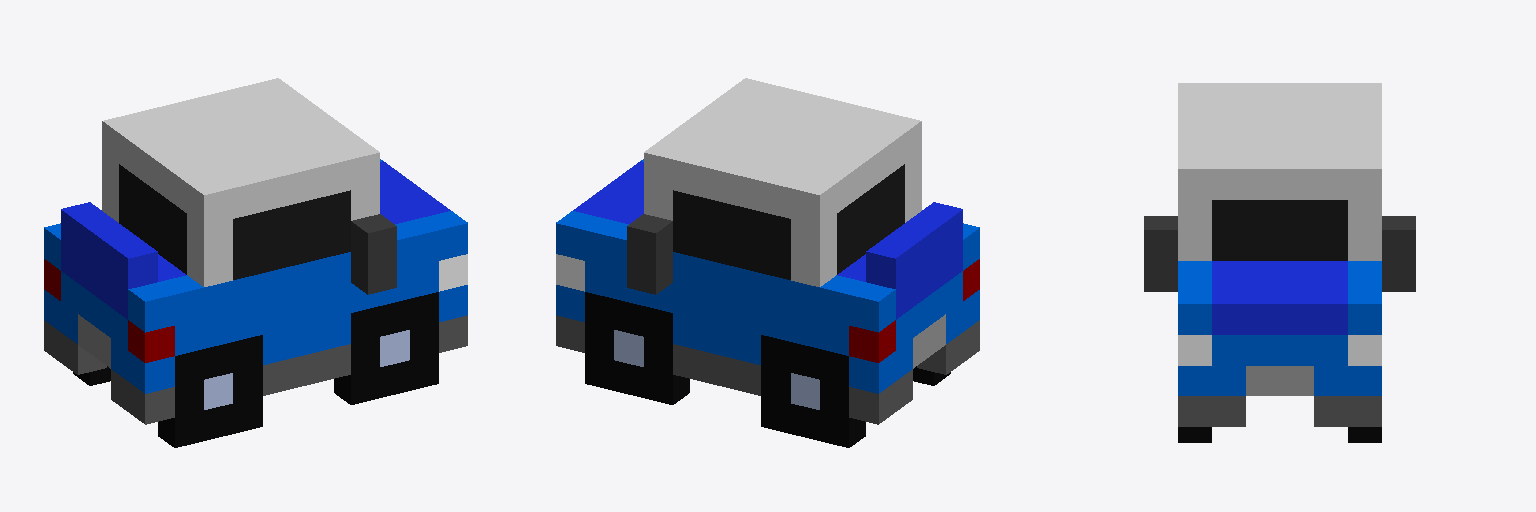
3 renders of one model, left to right at view 1: azimuth 30°, elevation 25°; view 2: azimuth 150°, elevation 25°; view 3: azimuth 270°, elevation 25°, orthographic.
Parts seen in each view (by area): view 1: BlueCar; view 2: BlueCar; view 3: BlueCar.
Boxes of the visible parts, x1=… form: BlueCar: x1=44, y1=78, x2=467, y2=447; BlueCar: x1=556, y1=78, x2=979, y2=447; BlueCar: x1=1144, y1=83, x2=1415, y2=442.
Bounding box in the file's own units: 11 × 8 × 8.
1 materials, 1 textured.